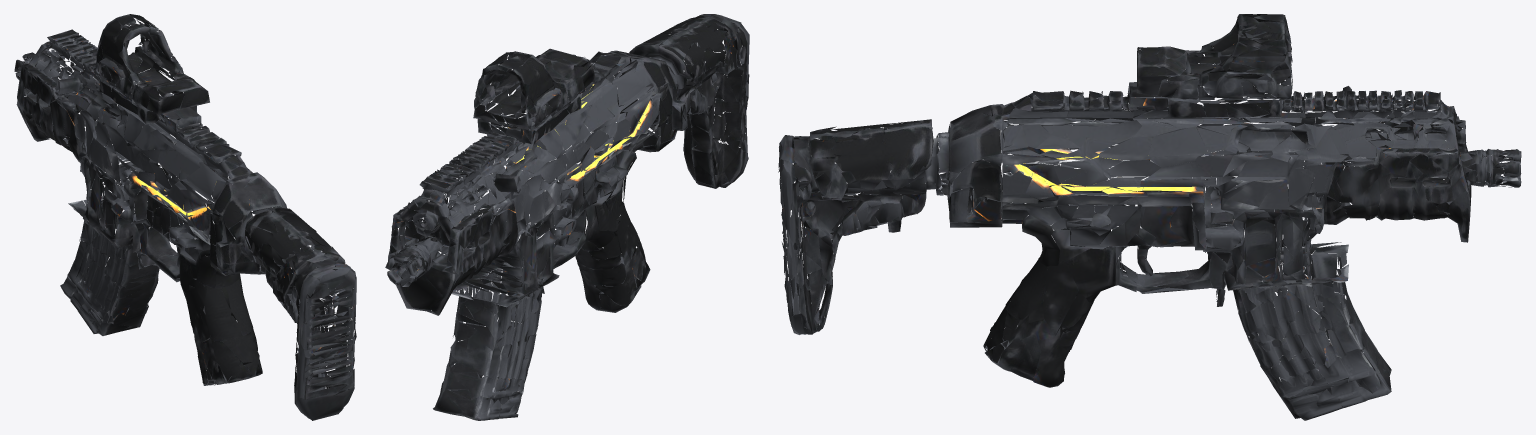
Rendered from rifle-smg.glb.
3 renders of one model, left to right at view 1: azimuth 30°, elevation 25°; view 2: azimuth 150°, elevation 25°; view 3: azimuth 270°, elevation 25°, orthographic. The views are drawn at different scales.
Visible parts, largest first — view 1: RifleBody, RifleMag; view 2: RifleBody, RifleMag; view 3: RifleBody, RifleMag.
Part boxes in pixels (bbox=[...]): RifleBody: bbox=[14, 14, 356, 420]; RifleMag: bbox=[60, 196, 159, 335]; RifleBody: bbox=[385, 14, 749, 315]; RifleMag: bbox=[433, 257, 559, 420]; RifleBody: bbox=[778, 14, 1521, 387]; RifleMag: bbox=[1223, 242, 1391, 420].
Bounding box in the file's own units: 0.1142 × 0.4339 × 0.7519.
Materials: 1 (1 with a texture image).
